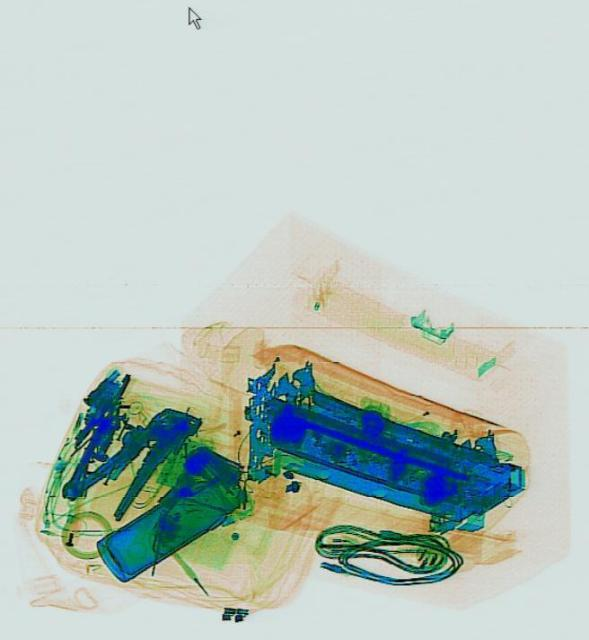Pliers: (57, 381, 203, 533)
